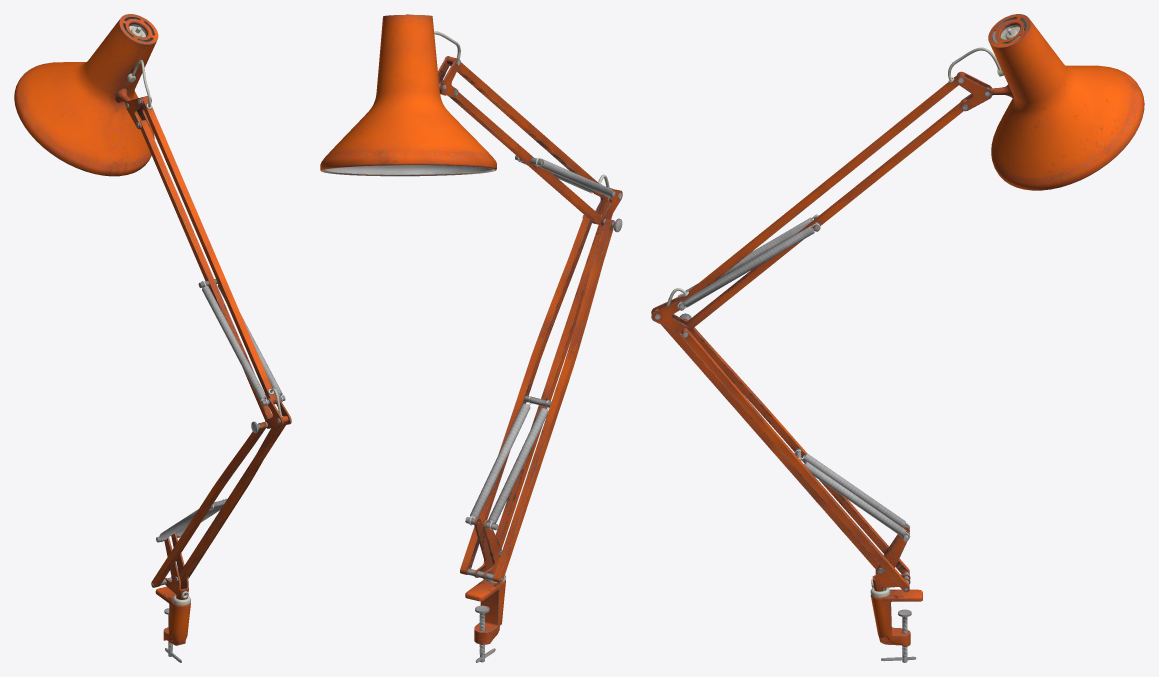
The model's file is desk_lamp_arm_01.glb.
3 renders of one model, left to right at view 1: azimuth 30°, elevation 25°; view 2: azimuth 150°, elevation 25°; view 3: azimuth 270°, elevation 25°, orthographic. The views are drawn at different scales.
Parts seen in each view (by area): view 1: desk_lamp_arm_01; view 2: desk_lamp_arm_01; view 3: desk_lamp_arm_01.
Boxes of the visible parts, bbox=[...] form: desk_lamp_arm_01: bbox=[14, 14, 291, 662]; desk_lamp_arm_01: bbox=[320, 14, 622, 662]; desk_lamp_arm_01: bbox=[651, 14, 1144, 662].
Bounding box in the file's own units: 0.2017 × 0.8926 × 0.6139.
Materials: 2 (2 with a texture image).
